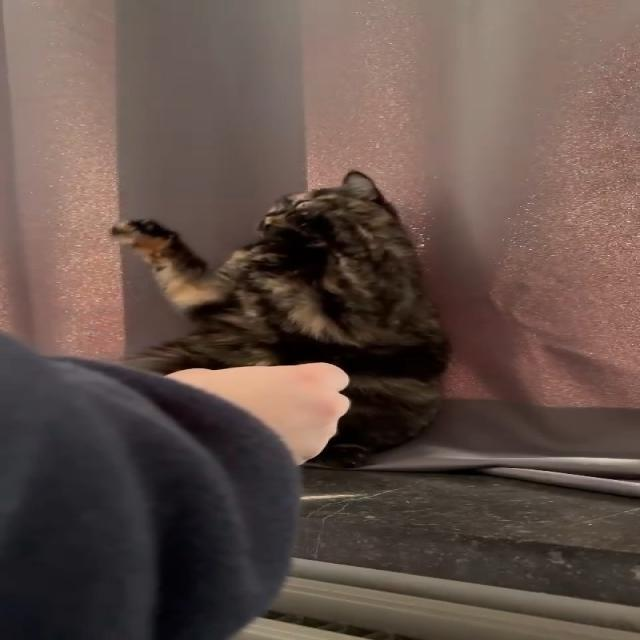authorized: (108, 169, 453, 469)
